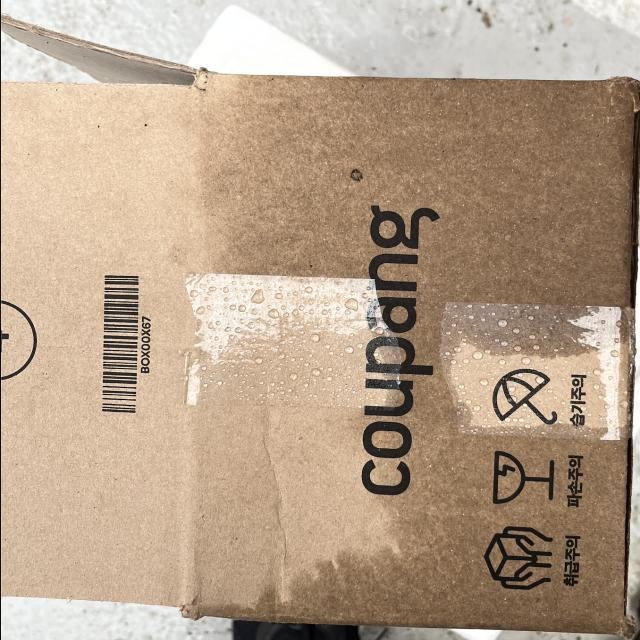wet: (191, 71, 631, 625)
